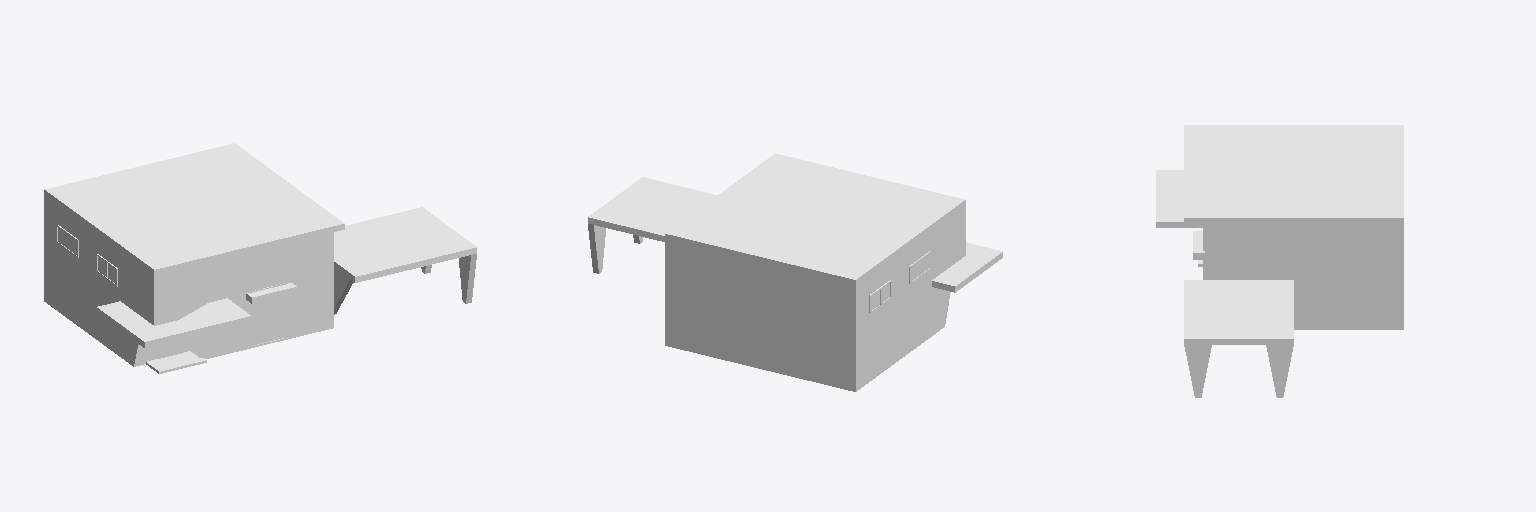
Rendered from Building_House_04_color01.obj.
3 views of the same model, side by side, from view 1: azimuth 30°, elevation 25°; view 2: azimuth 150°, elevation 25°; view 3: azimuth 270°, elevation 25° (orthographic).
Size of the model in its own units: 2477 by 787 by 1532.